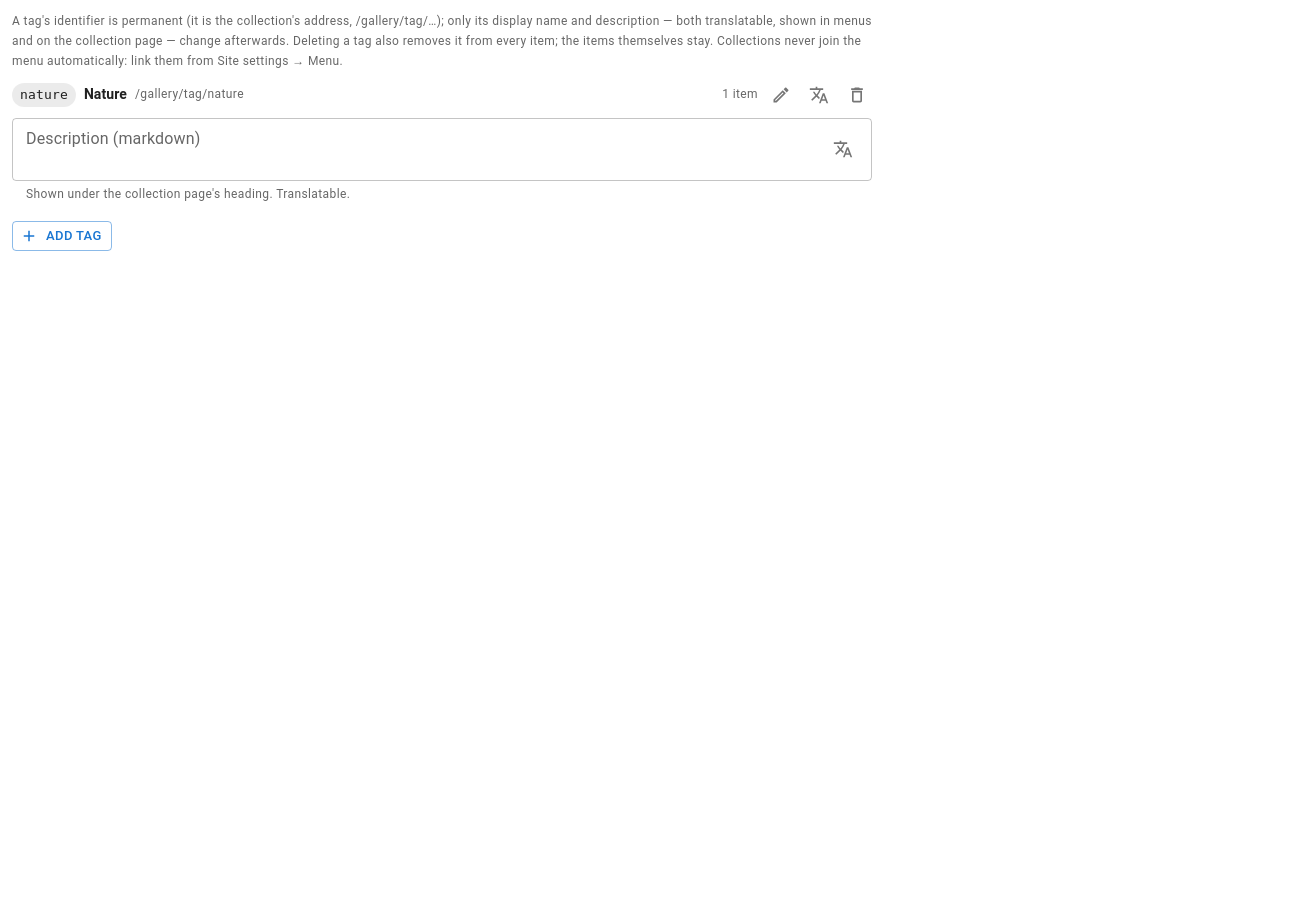
Test case: GalleryTagsEditor (Tags tab) › declares a tag with a valid id (rejecting the invalid ones live) and auto-saves it
Click the button "Add tag". click: (62, 236)
box: [12,221,112,251]
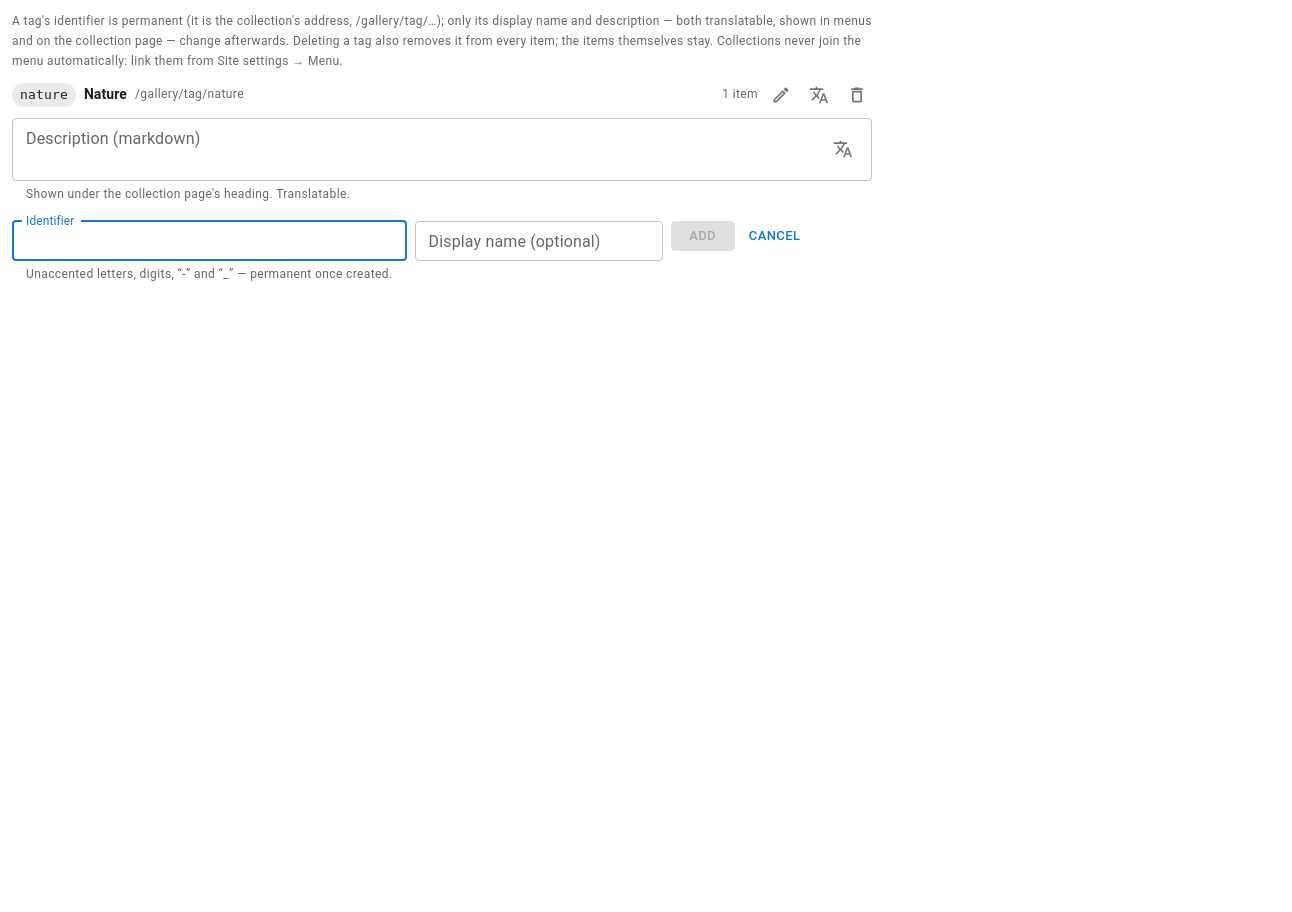
// An accented id is off the charset — flagged, confirm disabled.
Type "été" into the field labelled "Identifier". click: (209, 241)
box: [12,221,407,261]
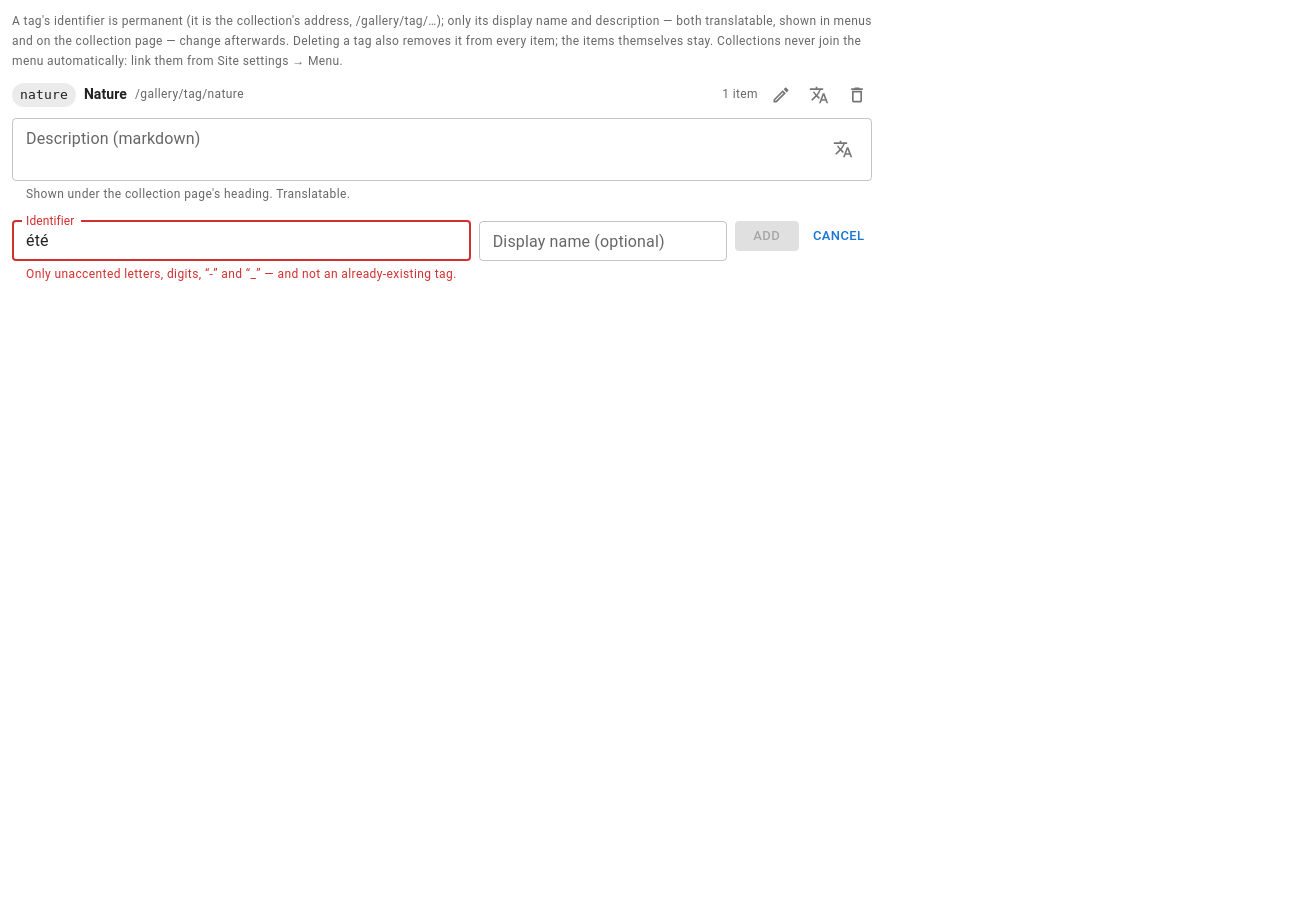
Expected: the button "Add" is disabled, [735,221,799,251]
Result: the text "Only unaccented letters" is shown at [26,267,457,281]
Replace the text in the field labelled "Identifier" with "summer-2026". click: (241, 241)
box: [12,221,471,261]
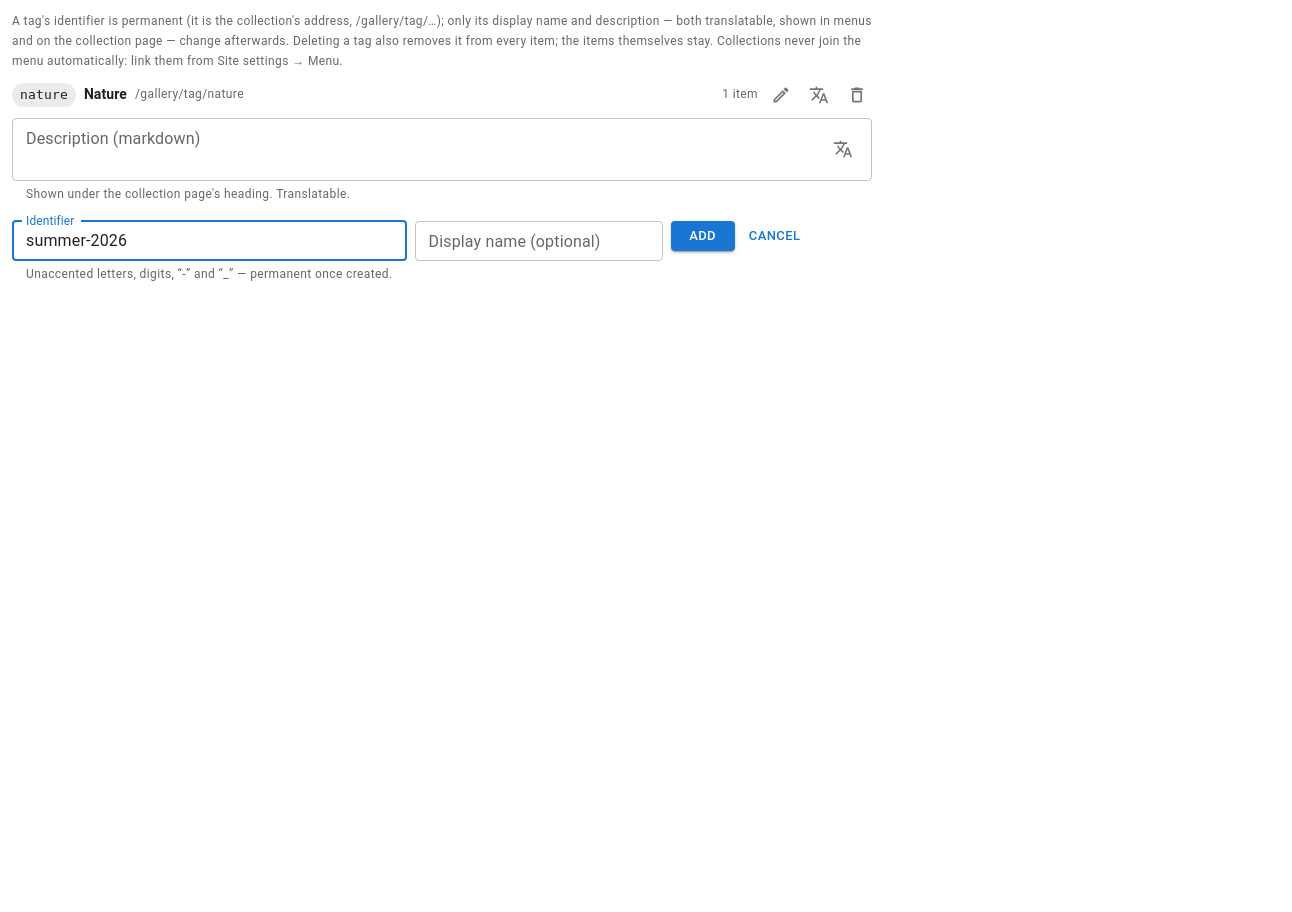
Type "Été 2026" into the field labelled "Display name (optional)". click: (539, 241)
box: [415,221,663,261]
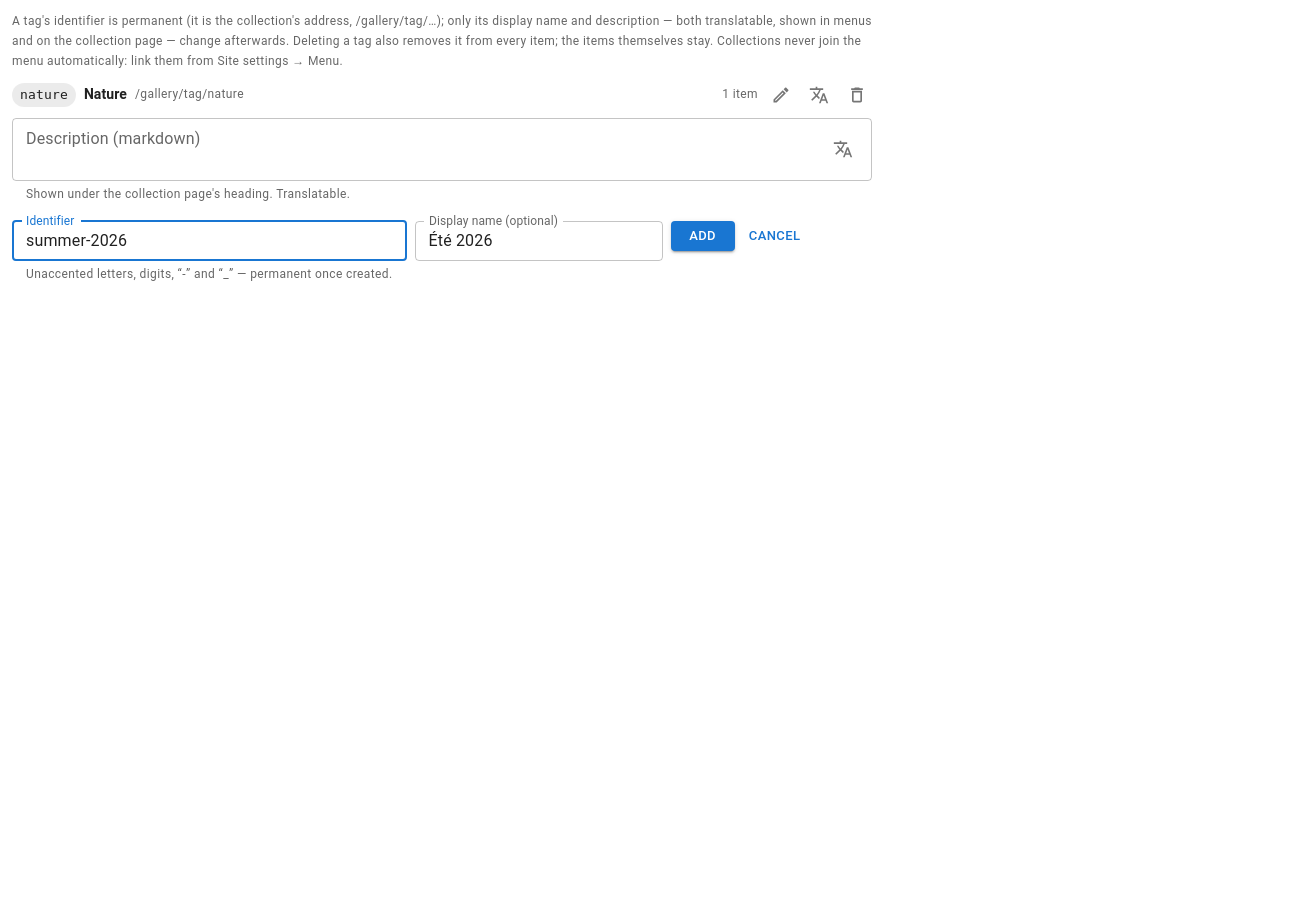
Click the button "Add". click: (703, 236)
box: [671,221,735,251]
Wait 850 ms
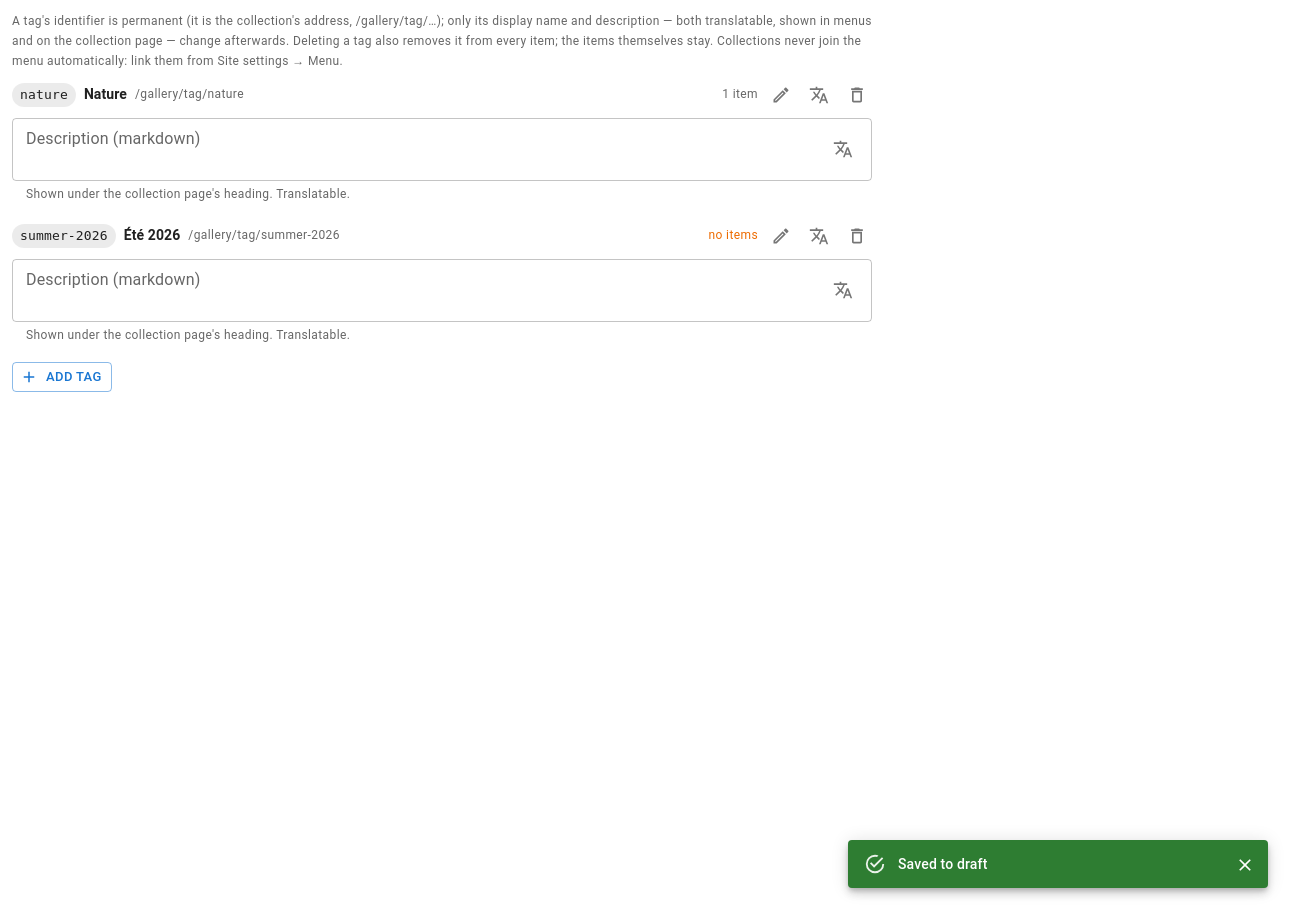
Result: the text "/gallery/tag/summer-2026" is shown at [188,226,340,246]
Result: the heading "Été 2026" is shown at [124,225,180,247]
